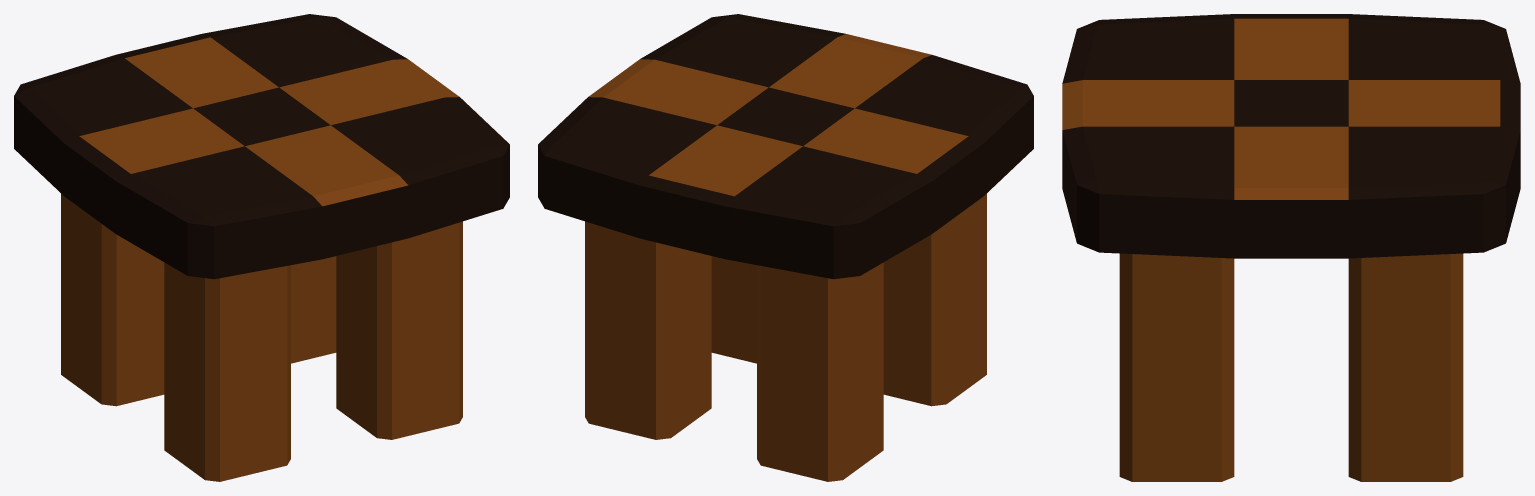
Rendered from chair2.obj.
3 renders of one model, left to right at view 1: azimuth 30°, elevation 25°; view 2: azimuth 150°, elevation 25°; view 3: azimuth 270°, elevation 25°, orthographic. The views are drawn at different scales.
Parts seen in each view (by area): view 1: Cube; view 2: Cube; view 3: Cube.
Part boxes in pixels (x1=…): Cube: x1=14, y1=14, x2=509, y2=481; Cube: x1=538, y1=14, x2=1033, y2=481; Cube: x1=1062, y1=14, x2=1520, y2=481.
Size of the model in its own units: 1.28 by 0.9998 by 1.33.
